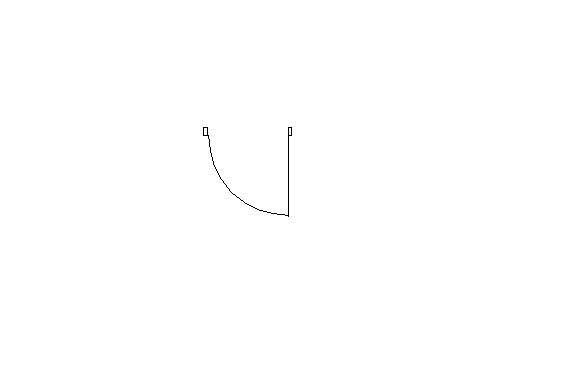door: (206, 148, 293, 229)
